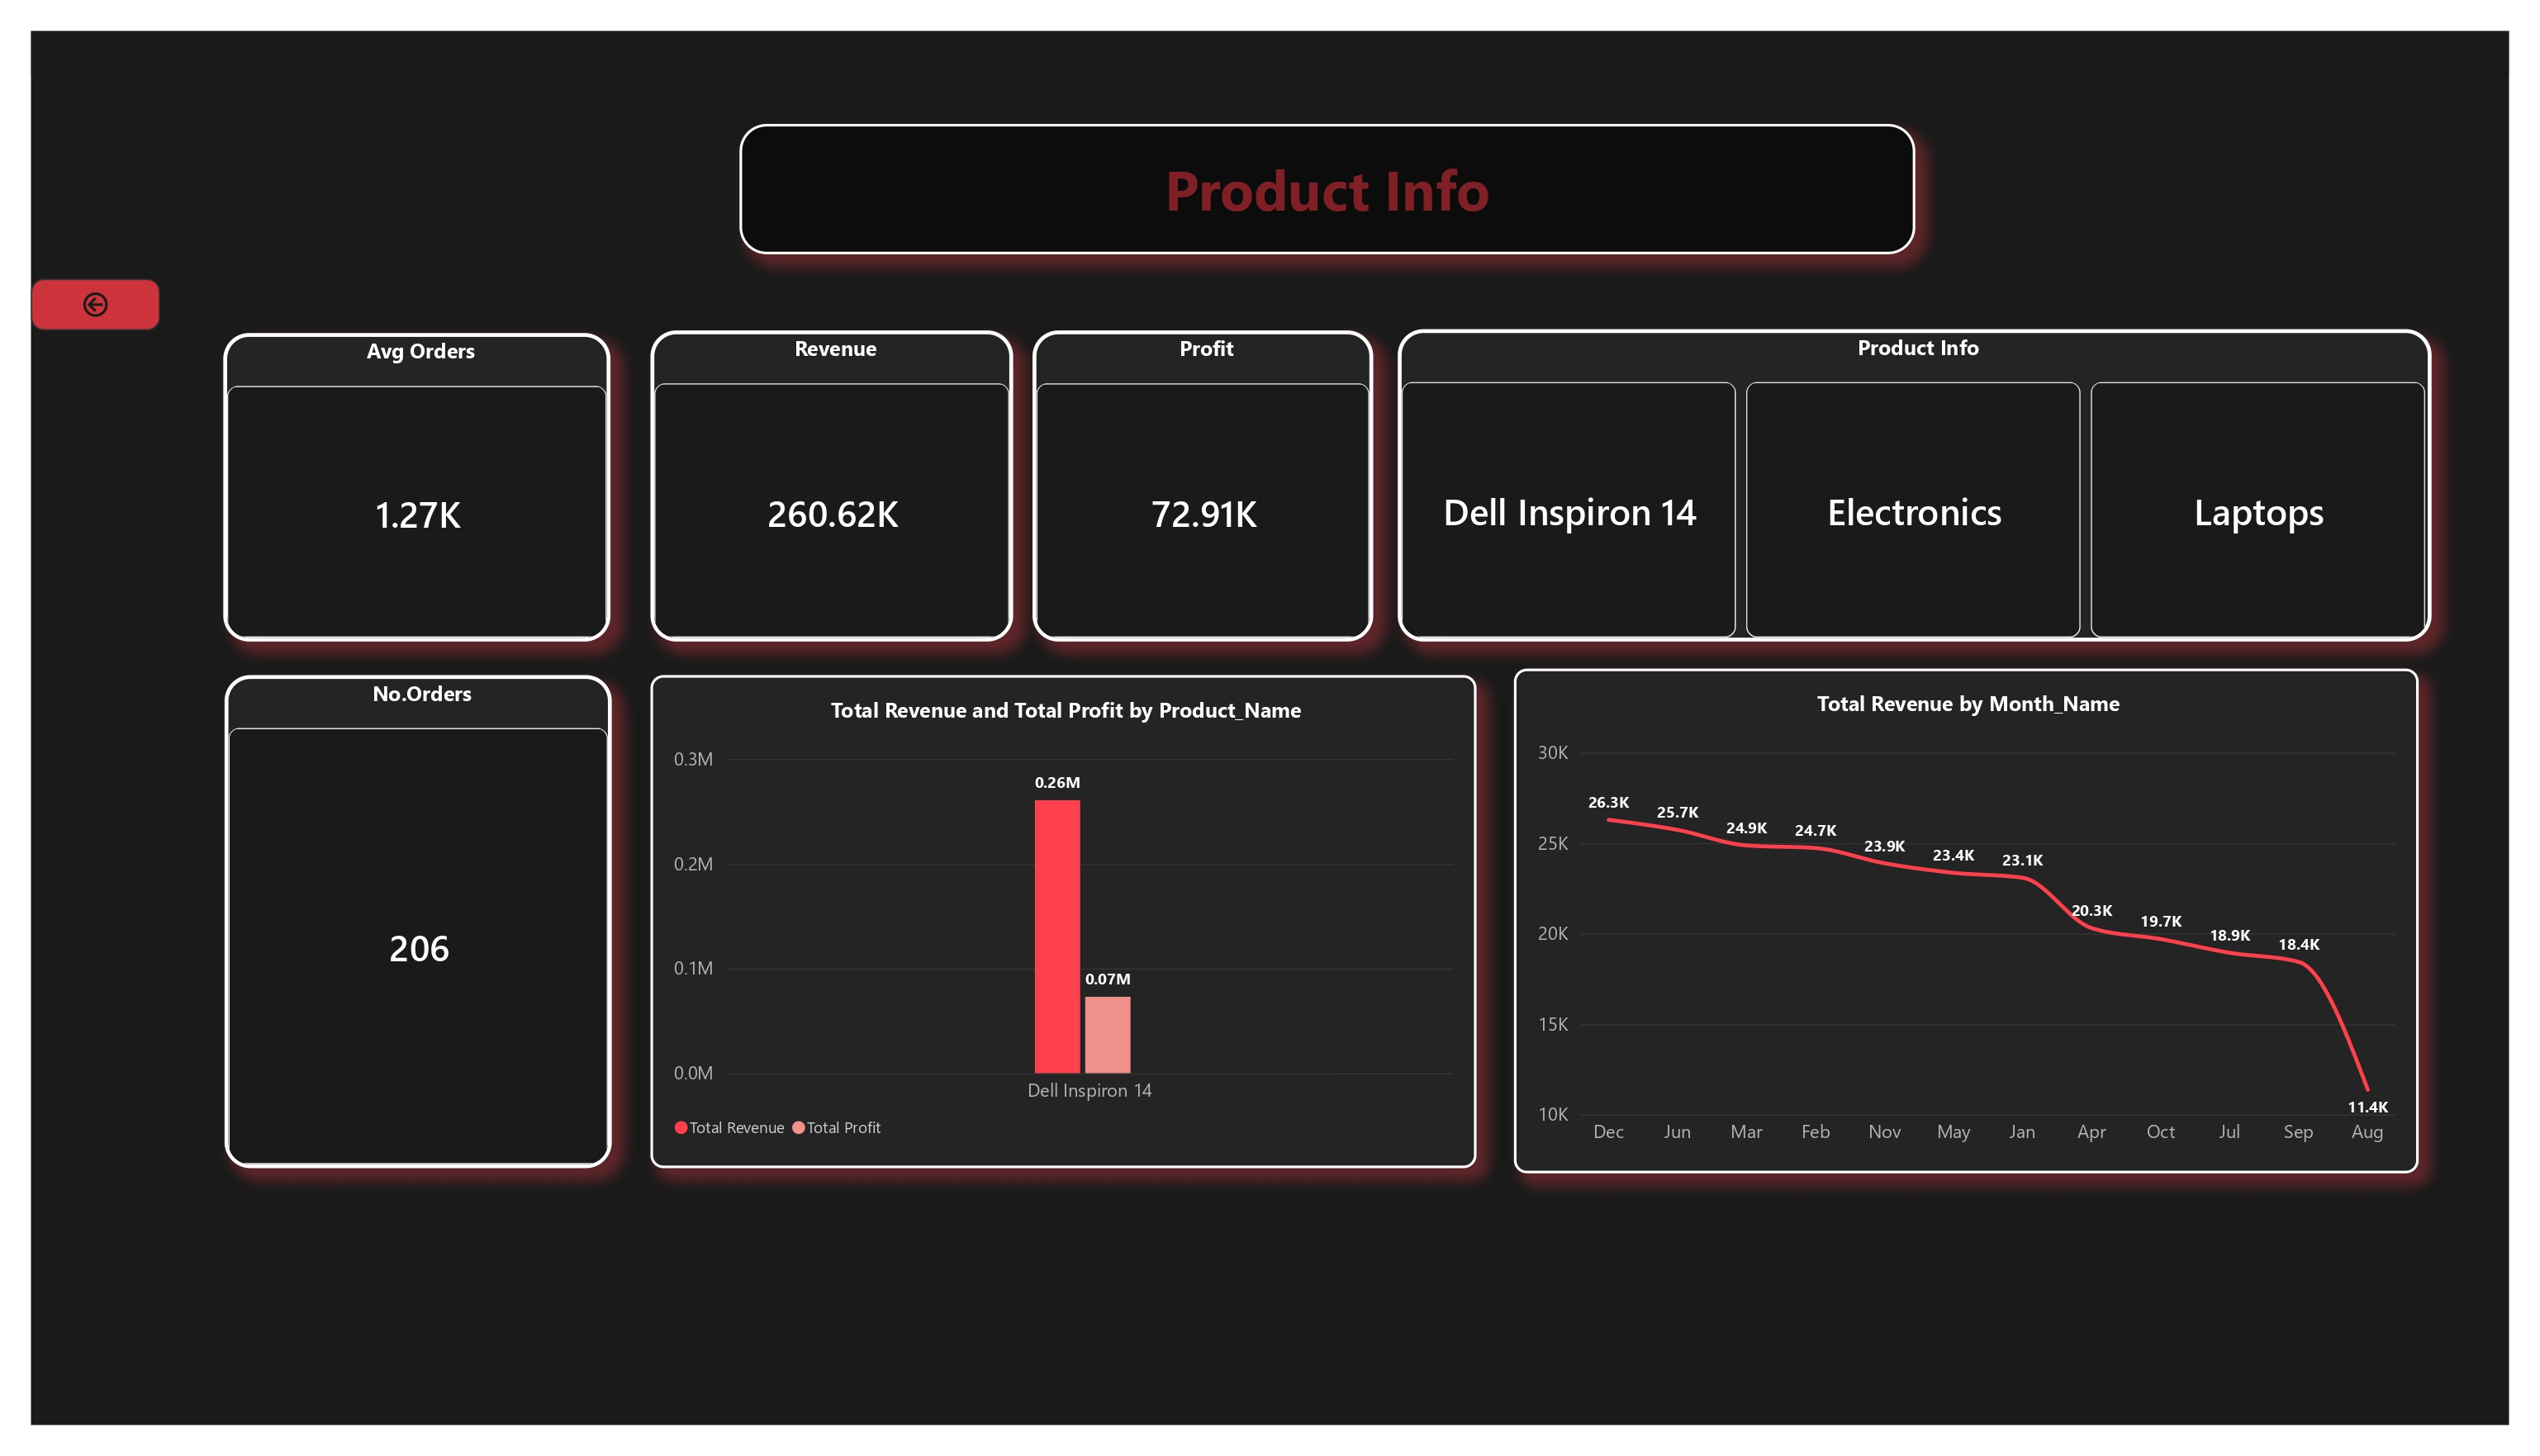

The dashboard page shown, as its layout file describes it:
{"tool":"powerbi","page":{"name":"Product_Details","canvas":[1920,1080],"ordinal":3},"visuals":[{"type":"actionButton","box":[0,191.8,100,40],"z":0},{"type":"cardVisual","title":"Revenue","fields":{"Data":["measures_table.Total Revenue"]},"box":[479.7,231.7,281.1,241.2],"z":1000},{"type":"cardVisual","title":"No.Orders","fields":{"Data":["measures_table.Total Orders"]},"box":[150,499.5,300.1,381.7],"z":2000},{"type":"cardVisual","title":"Avg Orders","fields":{"Data":["measures_table.Average Order Value"]},"box":[149.3,233.6,300.1,239.3],"z":3000},{"type":"cardVisual","title":"Profit","fields":{"Data":["measures_table.Total Profit"]},"box":[776,231.7,264,241.2],"z":4000},{"type":"cardVisual","title":"Product Info","fields":{"Data":["Min(DimProduct.Product_Name)","Min(DimProduct.Category)","Min(DimProduct.Subcategory)"]},"box":[1058.9,231.4,801.4,241.2],"z":5000},{"type":"lineChart","fields":{"Y":["measures_table.Total Revenue"],"Category":["DimDate.Month_Name"]},"box":[1149,493.8,700.8,391.2],"z":6000},{"type":"clusteredColumnChart","fields":{"Category":["DimProduct.Product_Name"],"Y":["measures_table.Total Revenue","measures_table.Total Profit"]},"box":[480.5,499.5,640,381.7],"z":7000},{"type":"textbox","box":[548.8,72.2,911.6,100.7],"z":8000}]}

Visuals, with their boxes on the page's 1920x1080 design canvas (x1, y1, x2, y2). These are canvas units, not pixel positions in the 2540x1456 screenshot, which may show the page scaled, cropped or inside an application window:
actionButton: (x1=0, y1=192, x2=100, y2=232)
"Revenue" cardVisual: (x1=480, y1=232, x2=761, y2=473)
"No.Orders" cardVisual: (x1=150, y1=500, x2=450, y2=881)
"Avg Orders" cardVisual: (x1=149, y1=234, x2=449, y2=473)
"Profit" cardVisual: (x1=776, y1=232, x2=1040, y2=473)
"Product Info" cardVisual: (x1=1059, y1=231, x2=1860, y2=473)
lineChart - measures_table.Total Revenue x DimDate.Month_Name: (x1=1149, y1=494, x2=1850, y2=885)
clusteredColumnChart - DimProduct.Product_Name x measures_table.Total Revenue: (x1=480, y1=500, x2=1120, y2=881)
textbox: (x1=549, y1=72, x2=1460, y2=173)
